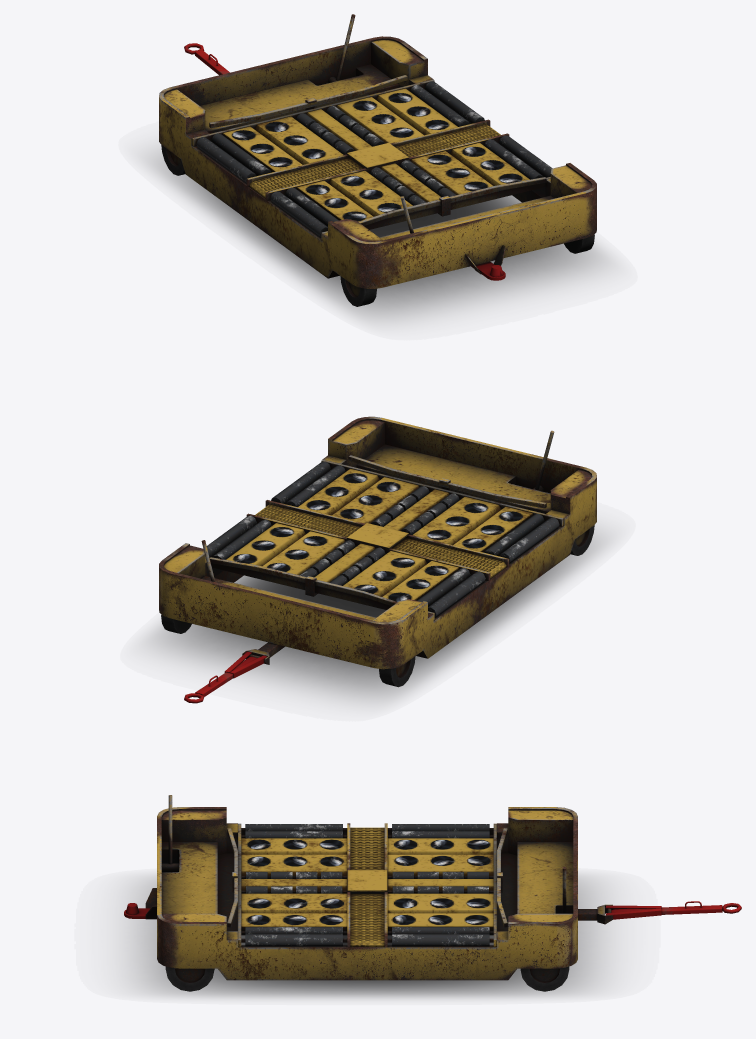
File: Cargo_Dolly_1_Yellow.gltf
3 renders of one model, top to bottom at view 1: azimuth 30°, elevation 25°; view 2: azimuth 150°, elevation 25°; view 3: azimuth 270°, elevation 25°, orthographic.
Visible parts, largest first — view 1: Cargo_Dolly_1_Yellow; view 2: Cargo_Dolly_1_Yellow; view 3: Cargo_Dolly_1_Yellow.
Part boxes in pixels (<box>): Cargo_Dolly_1_Yellow: <box>152,14,603,318</box>; Cargo_Dolly_1_Yellow: <box>153,416,602,703</box>; Cargo_Dolly_1_Yellow: <box>124,795,741,997</box>.
Size of the model in its own units: 2.72 by 0.7429 by 4.67.
